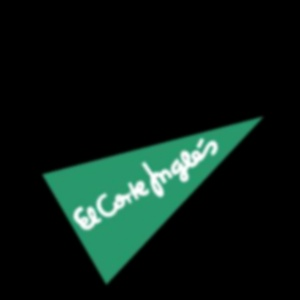corte_ingles: (252, 25, 279, 77)
